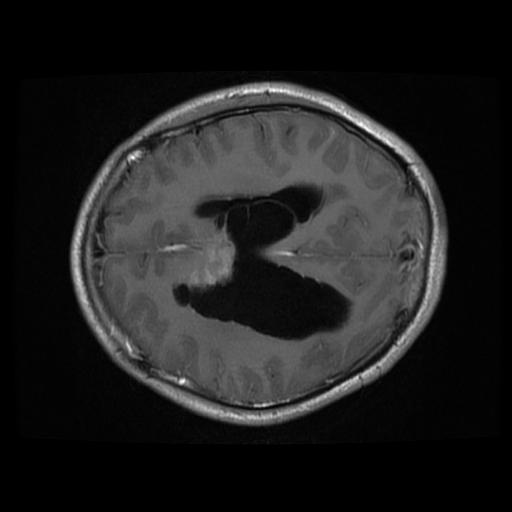glioma: (180, 215, 236, 291)
